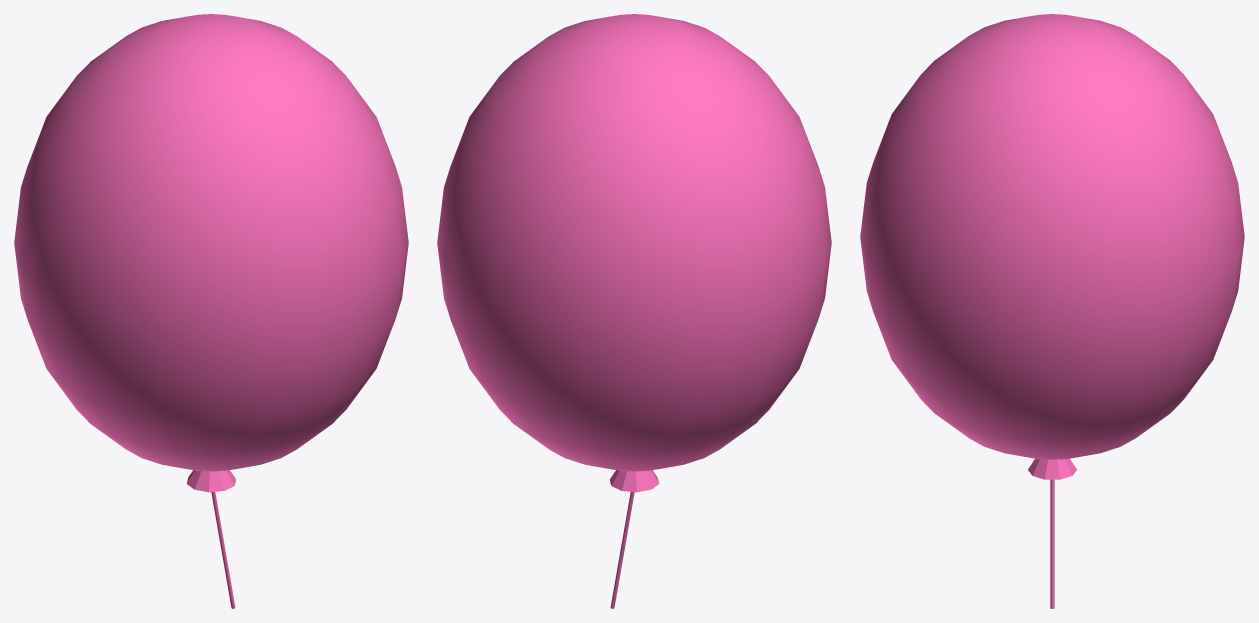
The model's file is balloon_pink.glb.
The picture shows the model from 3 angles, left to right: view 1: azimuth 30°, elevation 25°; view 2: azimuth 150°, elevation 25°; view 3: azimuth 270°, elevation 25°; orthographic projection. The views are drawn at different scales.
Parts seen in each view (by area): view 1: SM_LatexBalloon; view 2: SM_LatexBalloon; view 3: SM_LatexBalloon.
Boxes of the visible parts, box(x1,y1,x2,y2) form: SM_LatexBalloon: box(14, 14, 408, 608); SM_LatexBalloon: box(437, 14, 831, 608); SM_LatexBalloon: box(860, 14, 1244, 608).
Size of the model in its own units: 0.28 by 0.4583 by 0.28.
